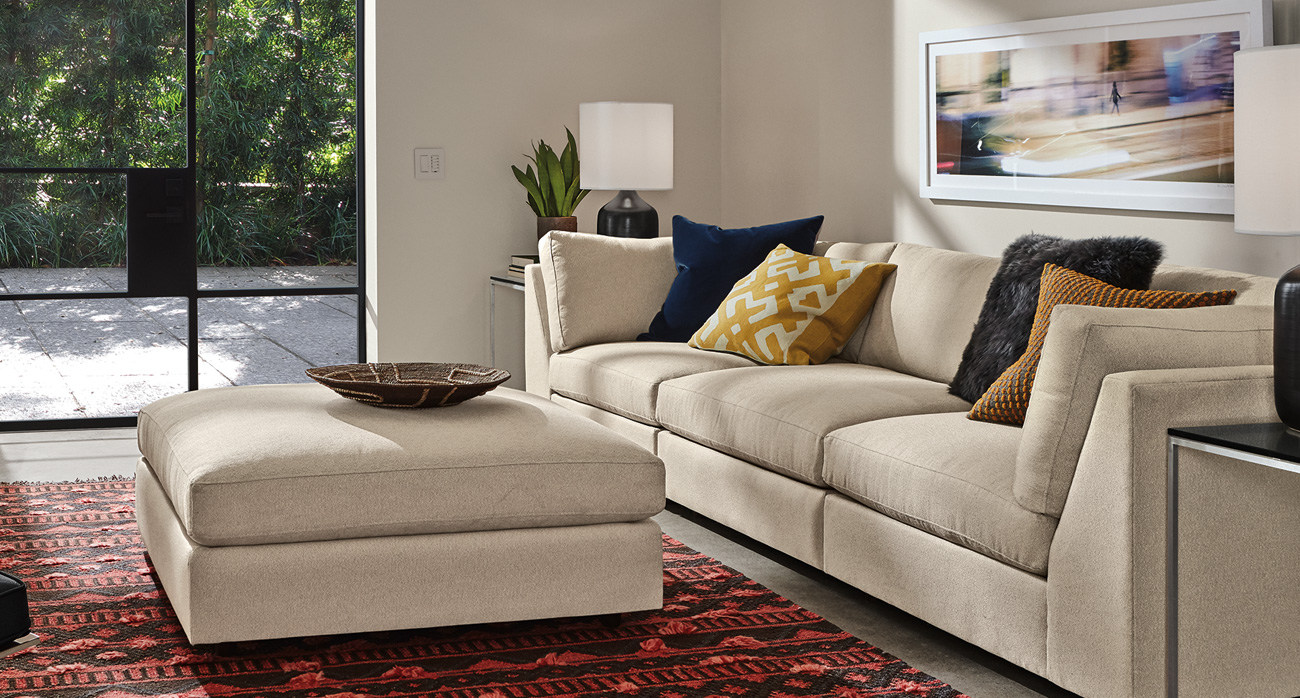chair: (523, 223, 1285, 698)
